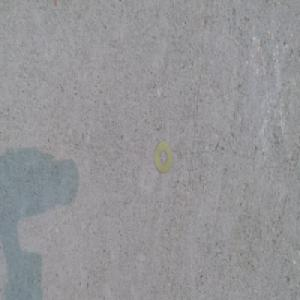Washer: (154, 141, 173, 175)
